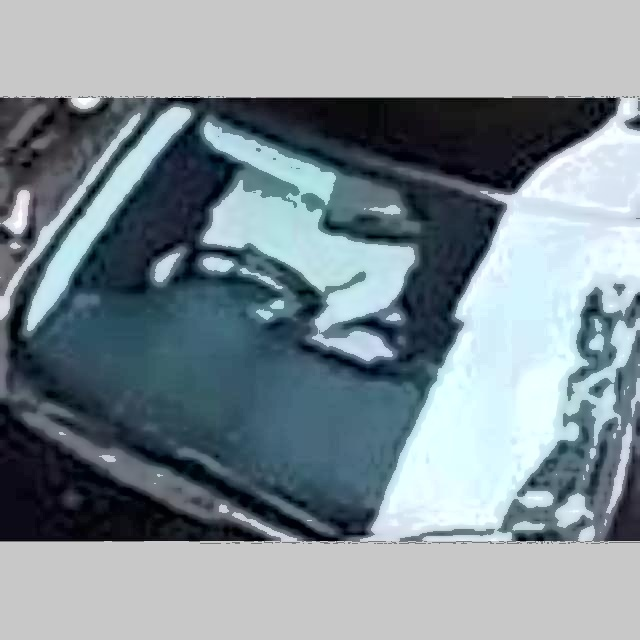tidak-pakai: (197, 157, 398, 331)
